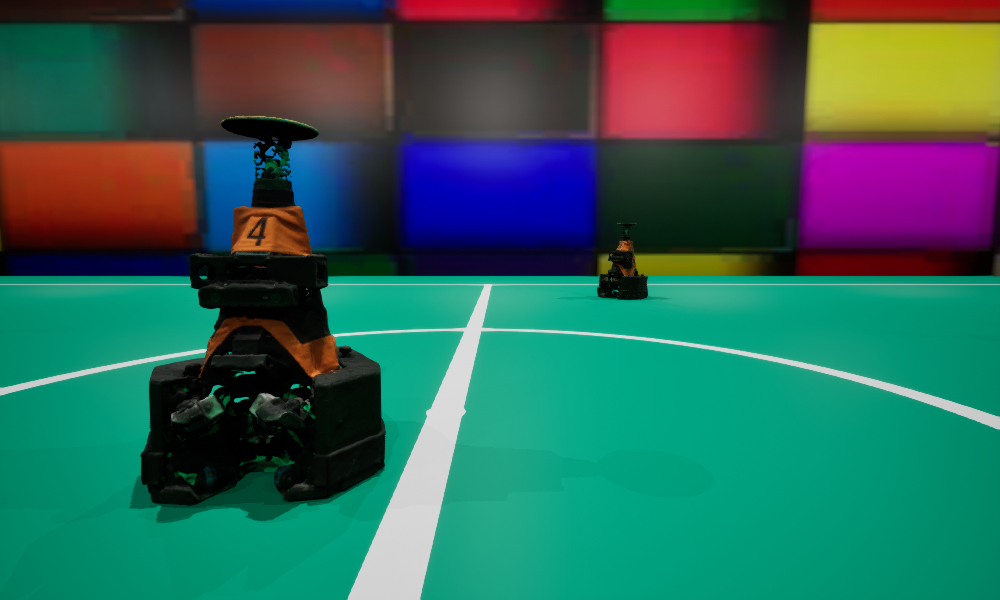0 orange robot TechUnited: (140, 116, 385, 504), (597, 223, 647, 298), (246, 266, 266, 267)
